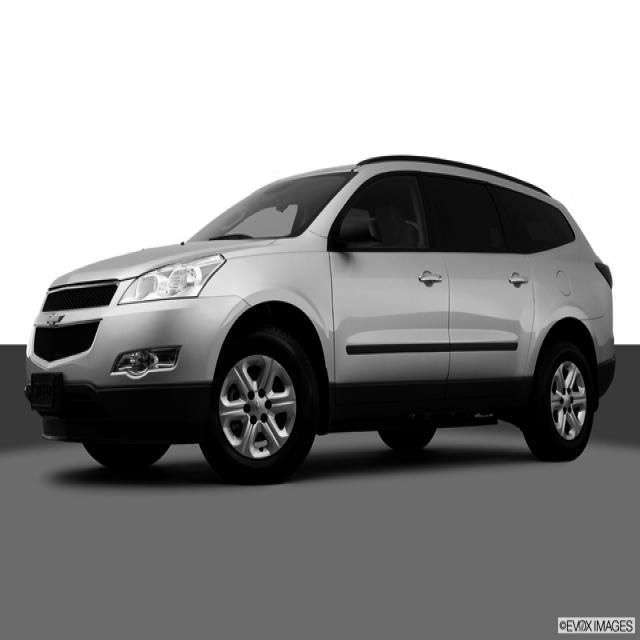car: (23, 153, 616, 484)
